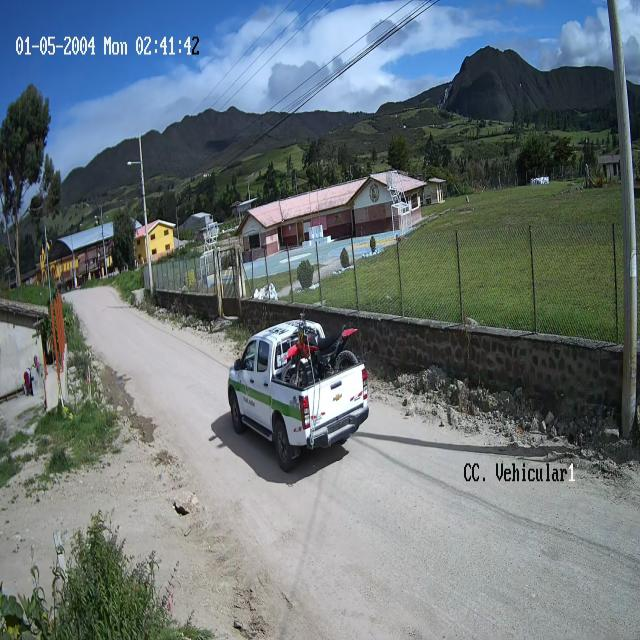CMT: (228, 320, 370, 471)
